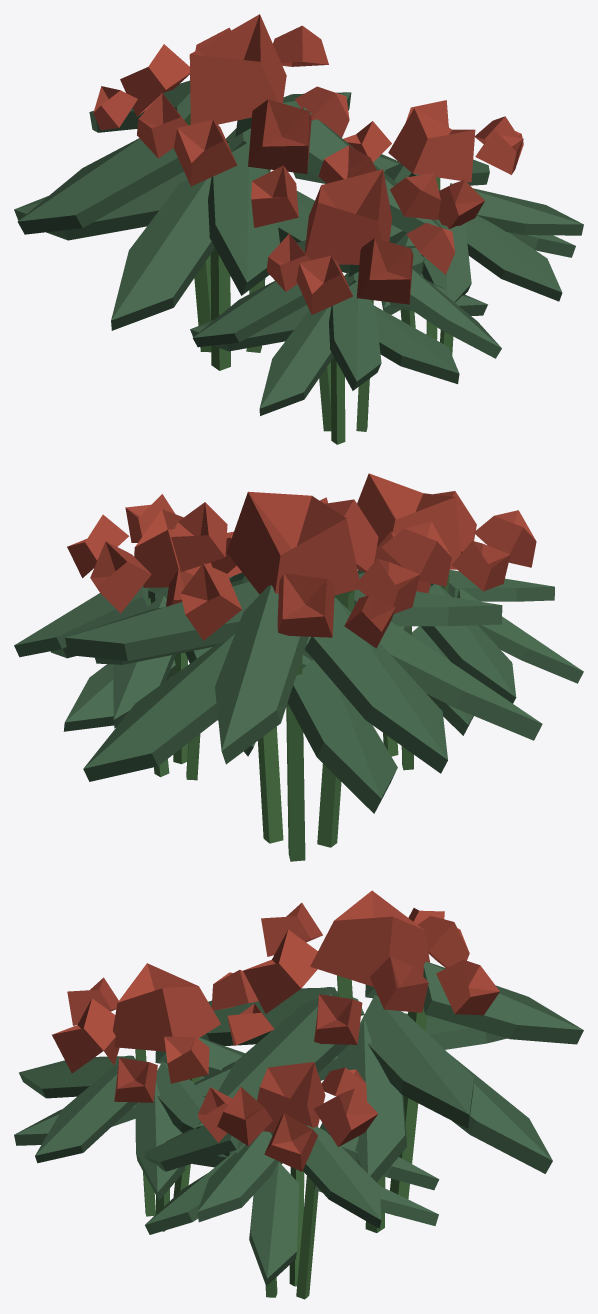
Rendered from SM_Env_Flowers_02.fbx.
3 views of the same model, one above another, from view 1: azimuth 30°, elevation 25°; view 2: azimuth 150°, elevation 25°; view 3: azimuth 270°, elevation 25° (orthographic). The views are drawn at different scales.
Visible parts, largest first — view 1: SM_Env_Flowers_02; view 2: SM_Env_Flowers_02; view 3: SM_Env_Flowers_02.
Boxes of the visible parts, <box> form: SM_Env_Flowers_02: <box>14,14,583,444</box>; SM_Env_Flowers_02: <box>14,473,583,861</box>; SM_Env_Flowers_02: <box>14,890,583,1299</box>.
Size of the model in its own units: 0.0115 by 0.00772 by 0.0125.
Materials: 1 (1 with a texture image).
